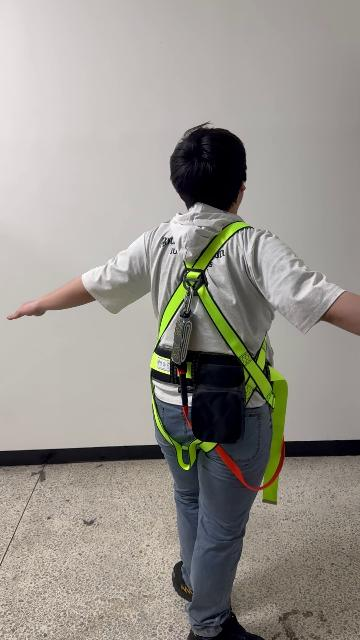helmet_not_worn: (168, 126, 248, 209)
shoe_worn: (188, 609, 266, 638), (172, 560, 193, 602)
vest_worn: (150, 227, 287, 485)
